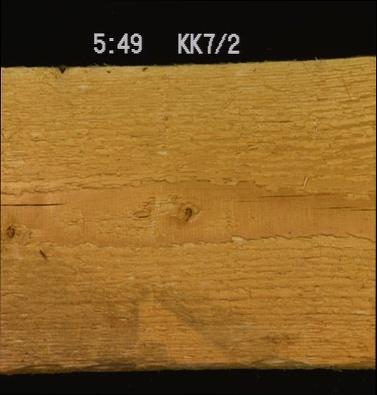dry_knot: (2, 220, 17, 240)
split: (254, 190, 309, 199), (0, 200, 69, 207), (323, 203, 375, 210)
wave: (0, 358, 375, 370)
